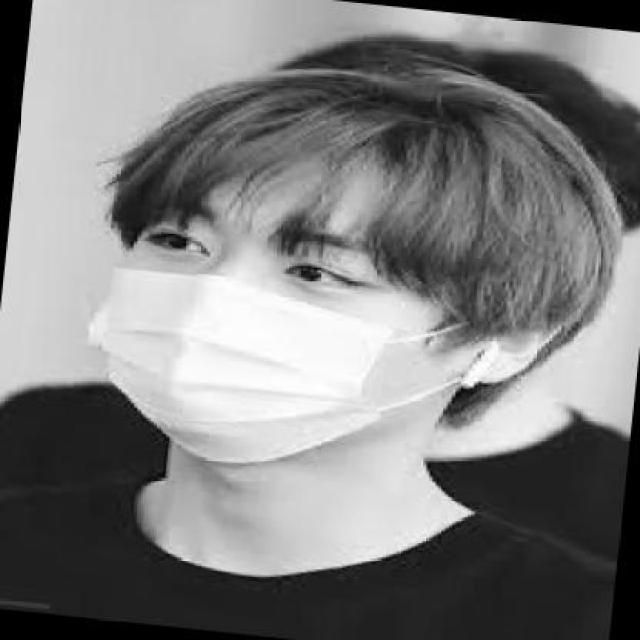earphone: (467, 318, 521, 405)
